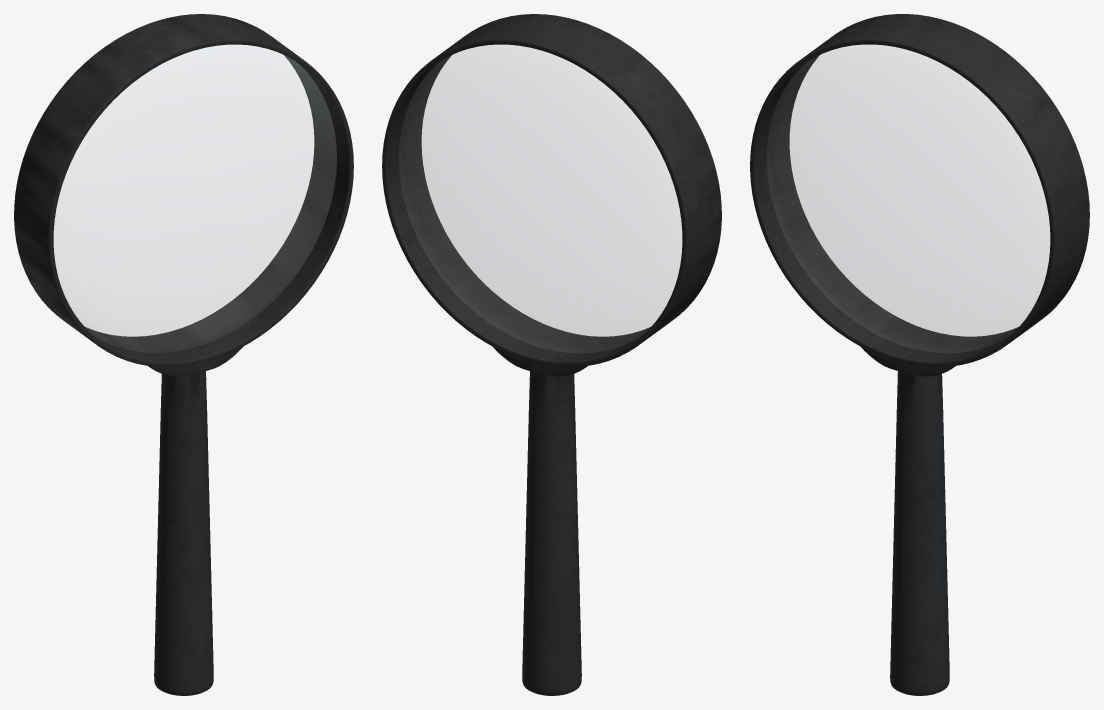
Rendered from magnifier.glb.
3 views of the same model, side by side, from view 1: azimuth 30°, elevation 25°; view 2: azimuth 150°, elevation 25°; view 3: azimuth 330°, elevation 25° (orthographic).
Parts seen in each view (by area): view 1: magnifying_glass_01; view 2: magnifying_glass_01; view 3: magnifying_glass_01.
Part boxes in pixels (x1,y1,x2,y2): magnifying_glass_01: (14,14,353,695); magnifying_glass_01: (382,14,721,695); magnifying_glass_01: (750,14,1089,695).
Bounding box in the file's own units: 0.1321 × 0.2716 × 0.0267.
2 materials, 1 textured.
